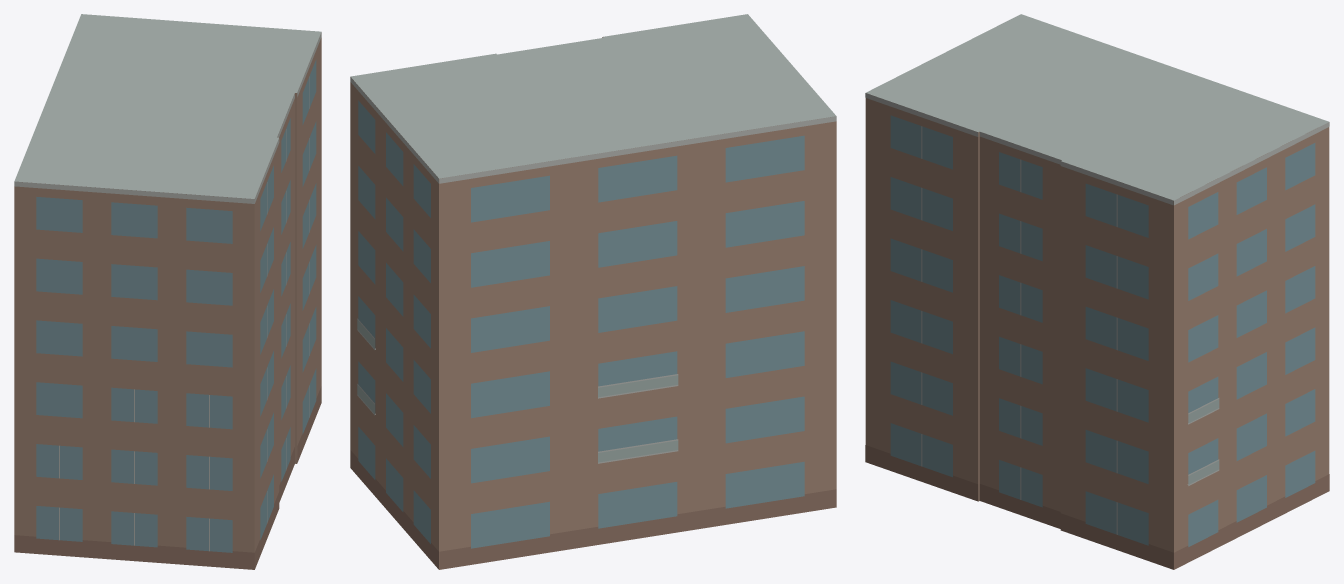
Rendered from survey-upis-32754218.glb.
The picture shows the model from 3 angles, left to right: view 1: azimuth 30°, elevation 25°; view 2: azimuth 150°, elevation 25°; view 3: azimuth 270°, elevation 25°; orthographic projection. The views are drawn at different scales.
Visible parts, largest first — view 1: survey-upis-32754218.tmp; view 2: survey-upis-32754218.tmp; view 3: survey-upis-32754218.tmp.
Part boxes in pixels (x1=…): survey-upis-32754218.tmp: x1=14, y1=14, x2=321, y2=569; survey-upis-32754218.tmp: x1=350, y1=14, x2=836, y2=569; survey-upis-32754218.tmp: x1=865, y1=14, x2=1329, y2=569.
Size of the model in its own units: 19.84 by 18.3 by 20.85.
